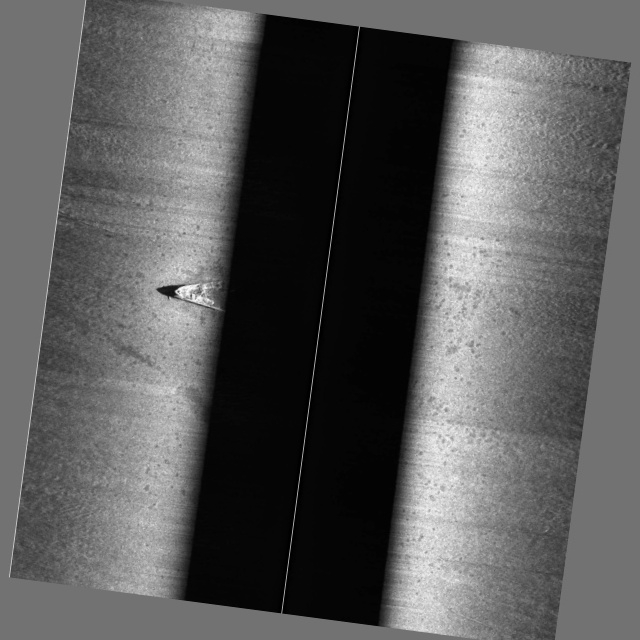Shipwreck: (167, 274, 230, 314)
